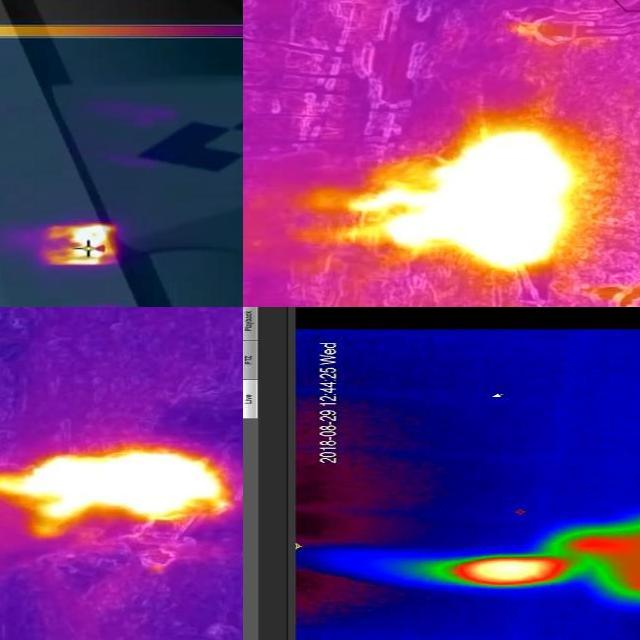fire: (353, 128, 587, 272), (1, 445, 232, 533), (434, 554, 576, 587), (38, 225, 122, 265)
